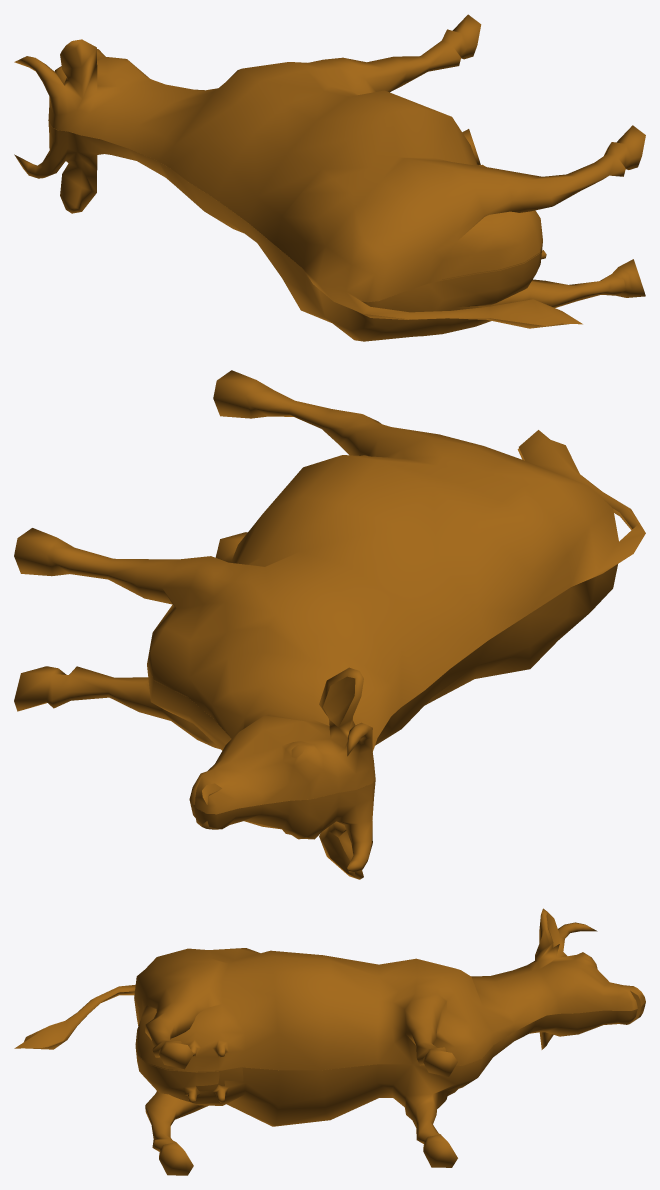
The model's file is cow_dead.obj.
3 views of the same model, one above another, from view 1: azimuth 30°, elevation 25°; view 2: azimuth 150°, elevation 25°; view 3: azimuth 270°, elevation 25° (orthographic). The views are drawn at different scales.
Visible parts, largest first — view 1: Plane02, Plane01; view 2: Plane02, Plane01; view 3: Plane02, Plane01, Object04.
Boxes of the visible parts, x1,y1,x2,y2 form: Plane02: (14, 14, 645, 325); Plane01: (14, 120, 645, 341); Plane02: (14, 370, 645, 814); Plane01: (14, 448, 632, 879); Plane02: (14, 908, 645, 1076); Plane01: (25, 991, 645, 1175); Object04: (138, 1055, 244, 1100).
Bounding box in the file's own units: 1.13 × 0.5958 × 2.12.
